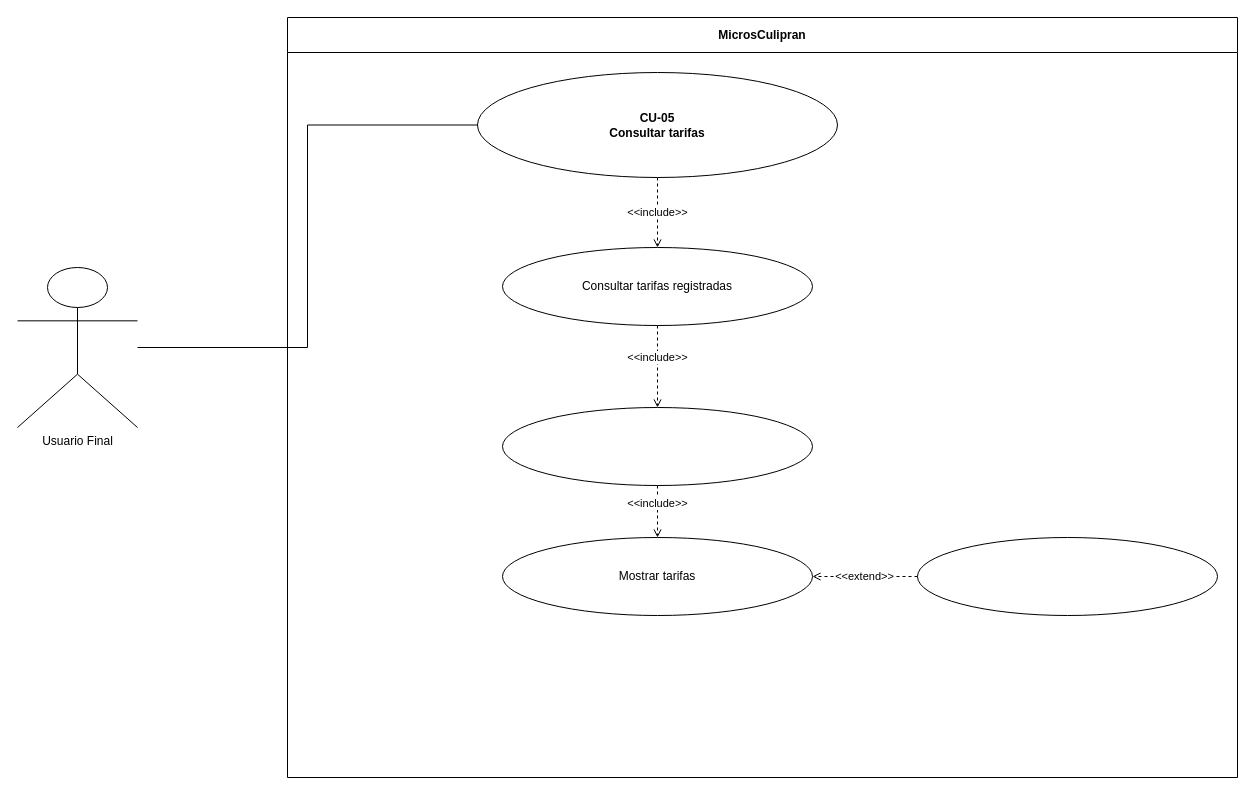
The diagram is 1255 pixels wide and 795 high, and some of its shapes have lost their labels. Each missing label, with the centre of its shape:
Informar tarifa no disponible: [1067,576]
Validar información vigente: [657,446]
